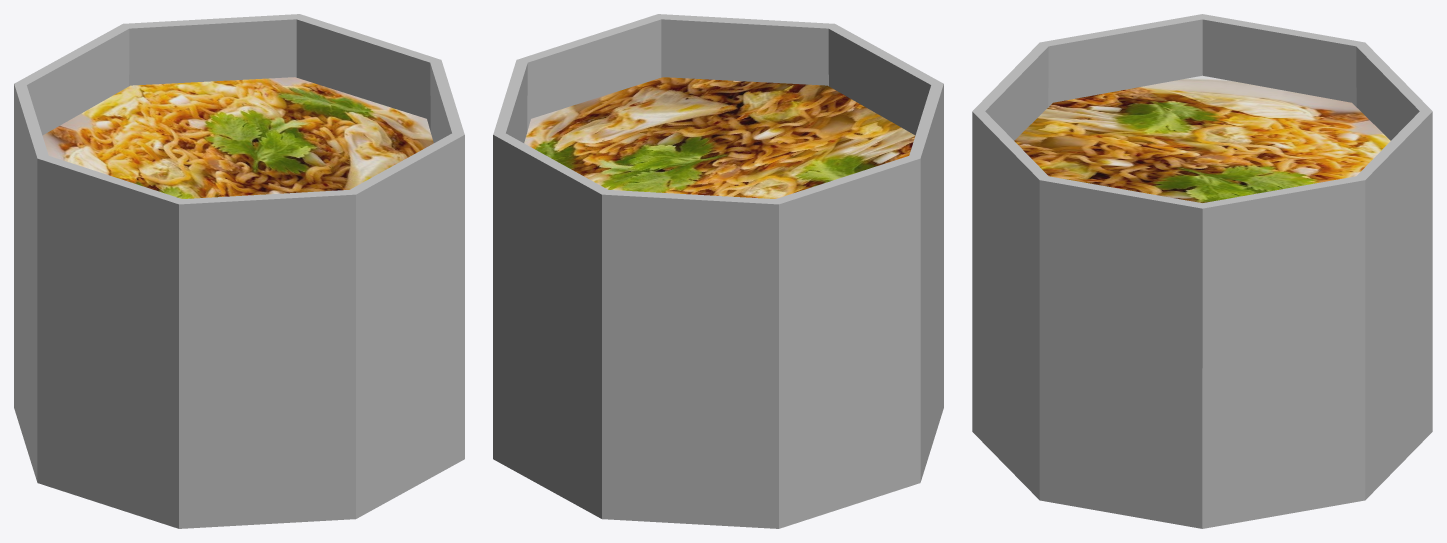
Rendered from panci mie rebus jadi.fbx.
3 views of the same model, side by side, from view 1: azimuth 30°, elevation 25°; view 2: azimuth 150°, elevation 25°; view 3: azimuth 270°, elevation 25° (orthographic).
Parts seen in each view (by area): view 1: Cylinder.001, Plane; view 2: Cylinder.001, Plane; view 3: Cylinder.001, Plane.
Part boxes in pixels (x1,y1,x2,y2): Cylinder.001: (14,14,464,528); Plane: (42,77,433,198); Cylinder.001: (493,14,943,528); Plane: (524,77,915,198); Cylinder.001: (972,14,1432,528); Plane: (1014,75,1390,202).
Size of the model in its own units: 228 by 175 by 228.
